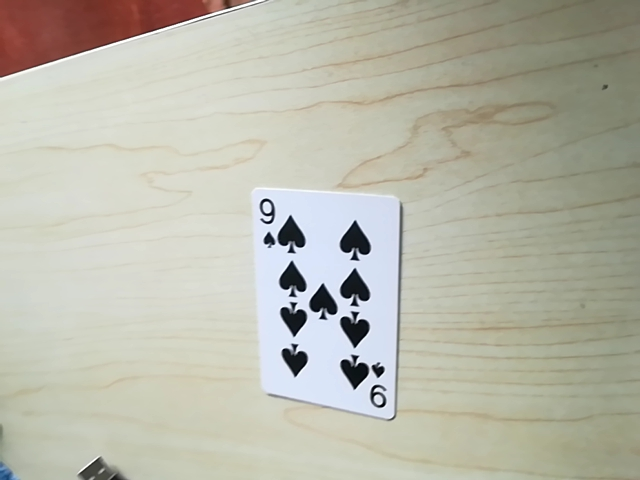ht 9: (252, 191, 285, 246), (362, 365, 392, 415)
